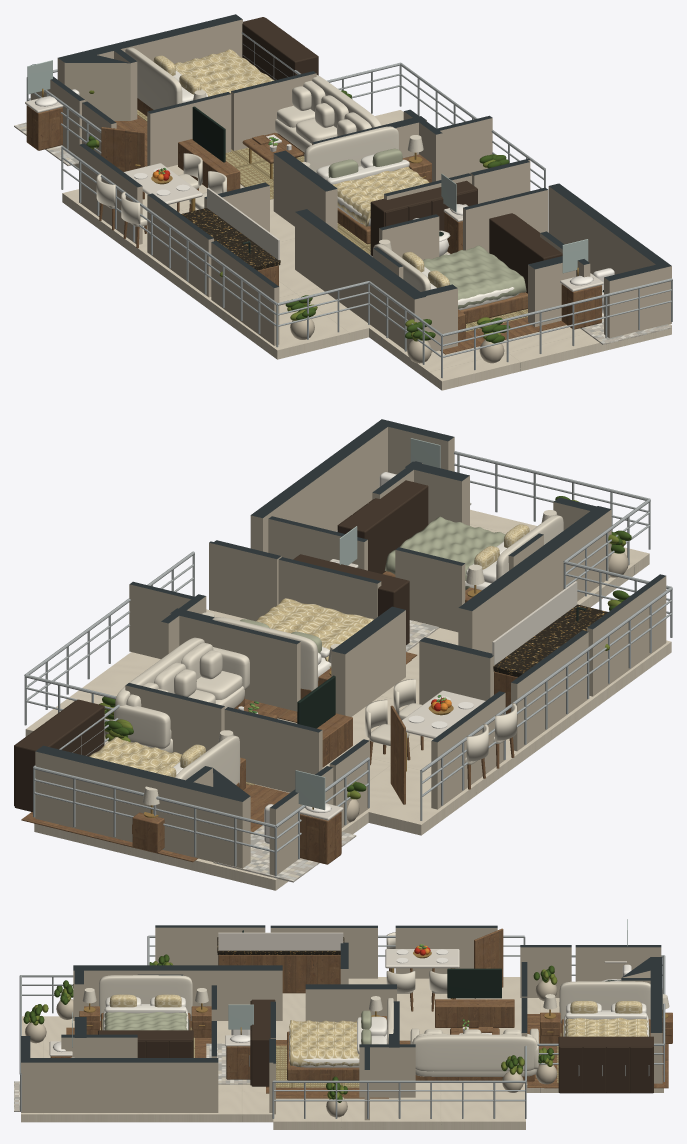
The picture shows the model from 3 angles, top to bottom: view 1: azimuth 30°, elevation 25°; view 2: azimuth 150°, elevation 25°; view 3: azimuth 270°, elevation 25°; orthographic projection. The views are drawn at different scales.
Parts seen in each view (by area): view 1: Source-traced internal and perimeter walls • Wall, Continuous apartment foundation, Soft jacquard duvet with folds.002, Fitted dark wardrobe, Fitted dark wardrobe.002, Soft jacquard duvet with folds, Padded headboard.001, Soft jacquard duvet with folds.001, Deep green kitchen stone, Padded headboard, Oak entrance door, Backsplash (+21 smaller); view 2: Source-traced internal and perimeter walls • Wall, Continuous apartment foundation, Fitted dark wardrobe.002, Fitted dark wardrobe, Soft jacquard duvet with folds.002, Soft jacquard duvet with folds.001, Deep green kitchen stone, Backsplash, Vanity, Fitted dark wardrobe.001, Soft jacquard duvet with folds, Rounded armrest (+20 smaller); view 3: Source-traced internal and perimeter walls • Wall, Continuous apartment foundation, Sofa back, Soft jacquard duvet with folds.001, Base cabinets, Backsplash, Walnut media console, Padded headboard.002, Padded headboard, Television, Fitted dark wardrobe.001, Fitted dark wardrobe (+39 smaller).
Boxes of the visible parts, left/top/right/bottom form: Source-traced internal and perimeter walls • Wall: left=30, top=14, right=671, bottom=352; Continuous apartment foundation: left=62, top=110, right=671, bottom=390; Soft jacquard duvet with folds.002: left=423, top=245, right=526, bottom=308; Fitted dark wardrobe: left=242, top=17, right=317, bottom=80; Fitted dark wardrobe.002: left=489, top=213, right=562, bottom=293; Soft jacquard duvet with folds: left=174, top=49, right=274, bottom=96; Padded headboard.001: left=304, top=126, right=399, bottom=172; Soft jacquard duvet with folds.001: left=333, top=166, right=429, bottom=226; Deep green kitchen stone: left=181, top=208, right=280, bottom=268; Padded headboard: left=125, top=47, right=182, bottom=109; Oak entrance door: left=101, top=127, right=144, bottom=199; Backsplash: left=207, top=187, right=279, bottom=259; Source-traced internal and perimeter walls • Wall: left=35, top=419, right=666, bottom=875; Continuous apartment foundation: left=25, top=509, right=671, bottom=890; Fitted dark wardrobe.002: left=338, top=480, right=428, bottom=573; Fitted dark wardrobe: left=14, top=699, right=104, bottom=812; Soft jacquard duvet with folds.002: left=385, top=516, right=505, bottom=590; Soft jacquard duvet with folds.001: left=256, top=598, right=373, bottom=668; Deep green kitchen stone: left=493, top=604, right=607, bottom=675; Backsplash: left=492, top=581, right=577, bottom=665; Vanity: left=300, top=811, right=341, bottom=864; Fitted dark wardrobe.001: left=293, top=554, right=409, bottom=644; Soft jacquard duvet with folds: left=89, top=737, right=181, bottom=772; Rounded armrest: left=114, top=704, right=170, bottom=748; Source-traced internal and perimeter walls • Wall: left=21, top=925, right=662, bottom=1120; Continuous apartment foundation: left=21, top=977, right=663, bottom=1129; Sofa back: left=412, top=1034, right=537, bottom=1071; Soft jacquard duvet with folds.001: left=289, top=1020, right=359, bottom=1066; Base cabinets: left=218, top=955, right=340, bottom=993; Backsplash: left=218, top=932, right=343, bottom=950; Walnut media console: left=435, top=999, right=514, bottom=1027; Padded headboard.002: left=99, top=975, right=192, bottom=1017; Padded headboard: left=559, top=981, right=650, bottom=1023; Television: left=447, top=968, right=501, bottom=998; Fitted dark wardrobe.001: left=251, top=999, right=275, bottom=1086; Fitted dark wardrobe: left=558, top=1036, right=653, bottom=1093.
Bounding box in the file's own units: 7.1 × 1.7 × 13.26.
Materials: 26 (6 with a texture image).
